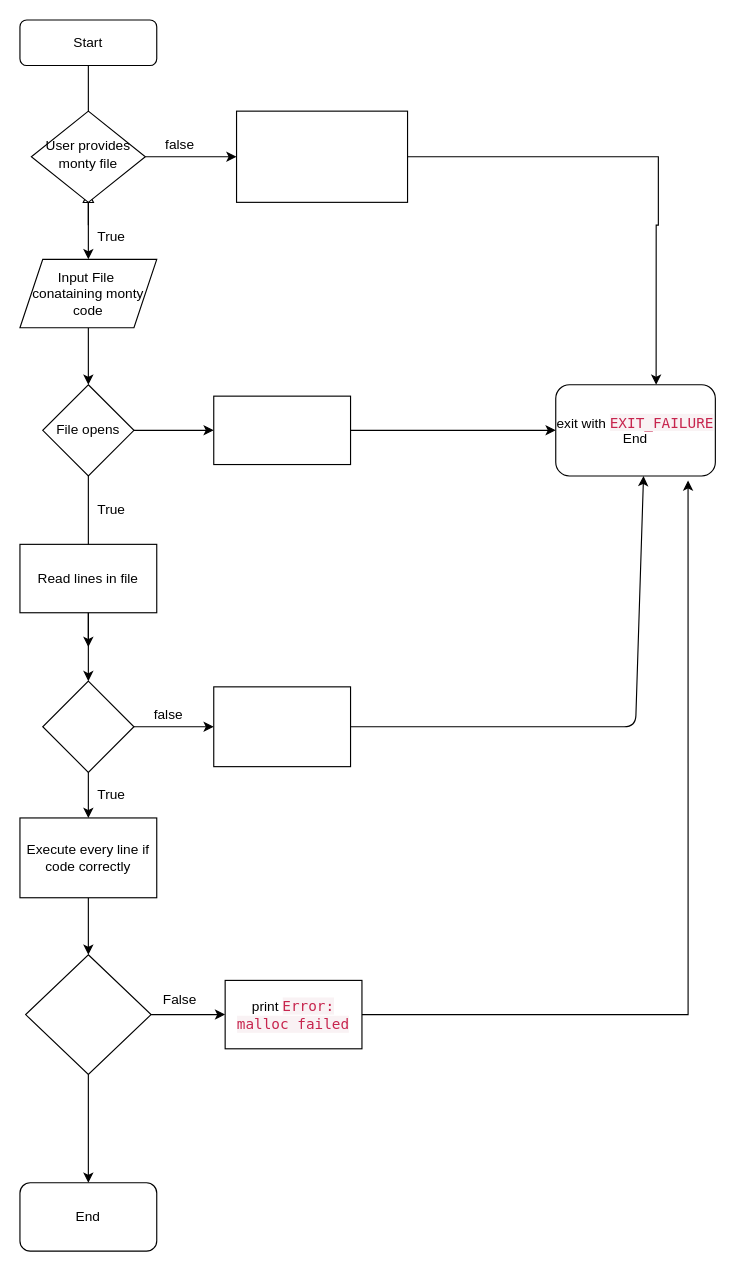
This 735x1271 diagram has some shape labels left out. The shapes that lost their labels are listed below. From the top down, each one's centre as x and y in pixels, then its label:
point 321,156: print the error message USAGE: monty file , e status EXIT_FAILURE
point 282,430: print Error: Can't open file <file>
point 88,726: Valid command
point 282,726: L<line_number>: unknown instruction <opcode>
point 88,1014: code runs succesfuly without maloc error
